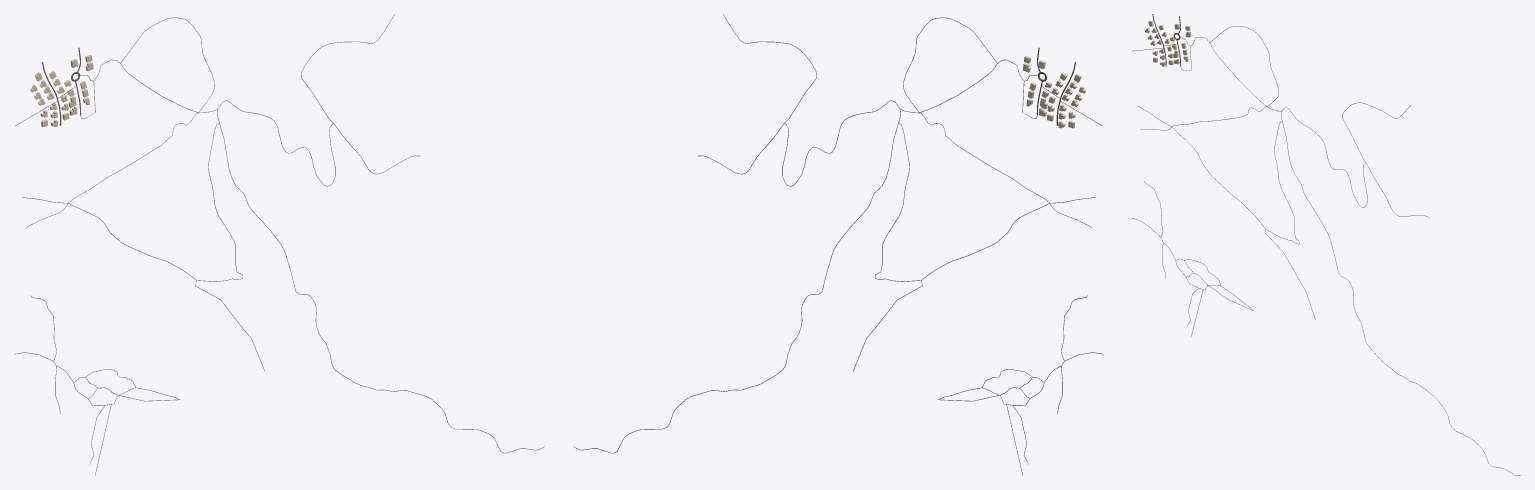
File: historic-palestine-08_23_3495_3178.glb
The picture shows the model from 3 angles, left to right: view 1: azimuth 30°, elevation 25°; view 2: azimuth 150°, elevation 25°; view 3: azimuth 330°, elevation 25°; orthographic projection. The views are drawn at different scales.
Parts seen in each view (by area): view 1: Road .003; view 2: Road .003; view 3: Road .003.
Boxes of the visible parts, bbox=[...] form: Road .003: bbox=[217, 109, 544, 453]; Road .003: bbox=[573, 109, 900, 453]; Road .003: bbox=[1281, 111, 1520, 475].
Bounding box in the file's own units: 1422 × 1338 × 8.7.
